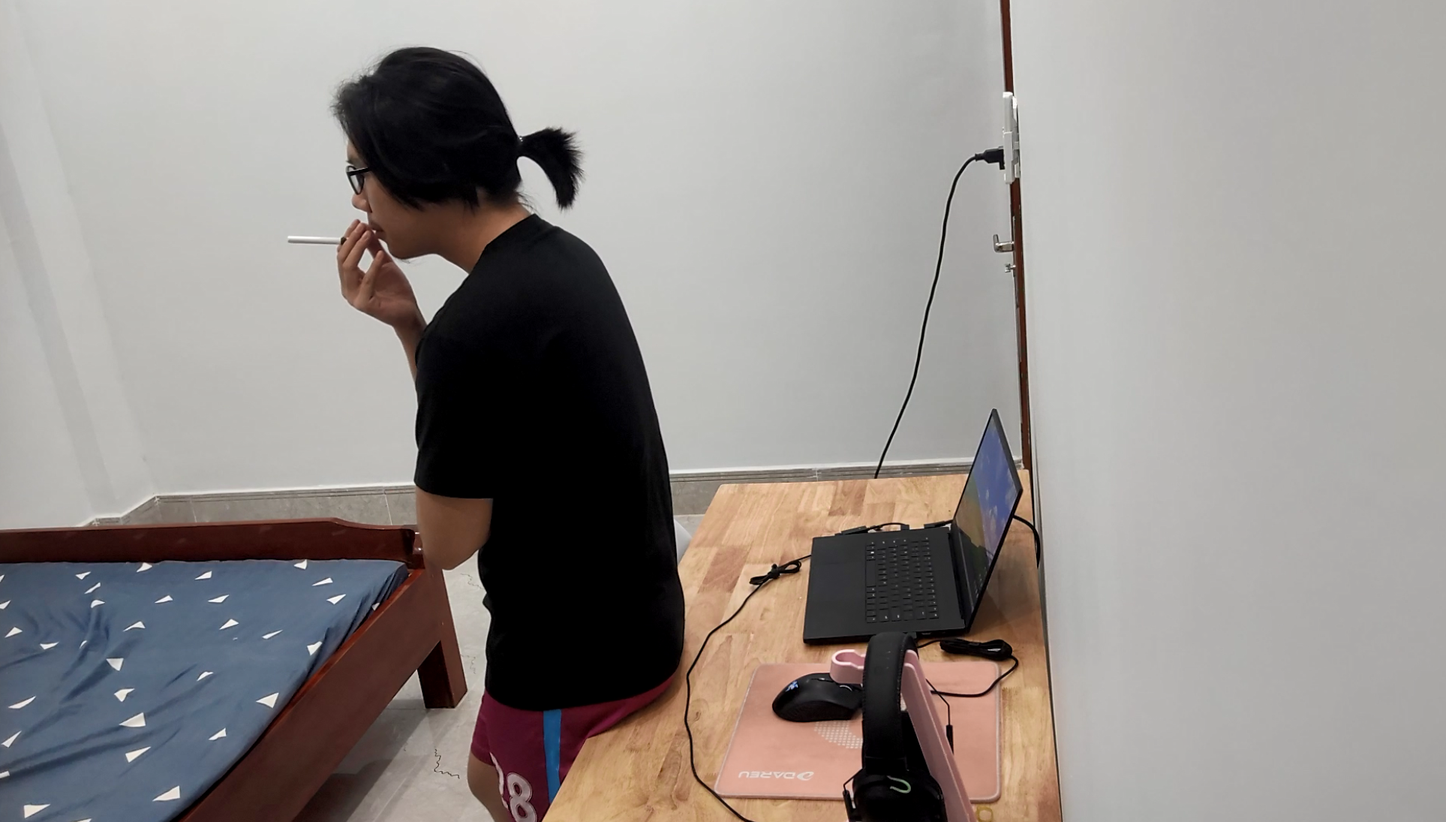cigarette: (287, 224, 341, 263)
person: (293, 9, 693, 822)
